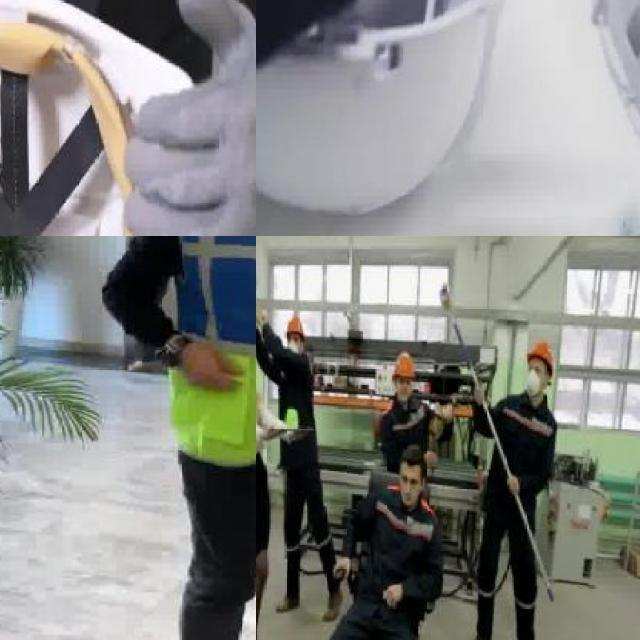apron: (119, 0, 256, 236)
